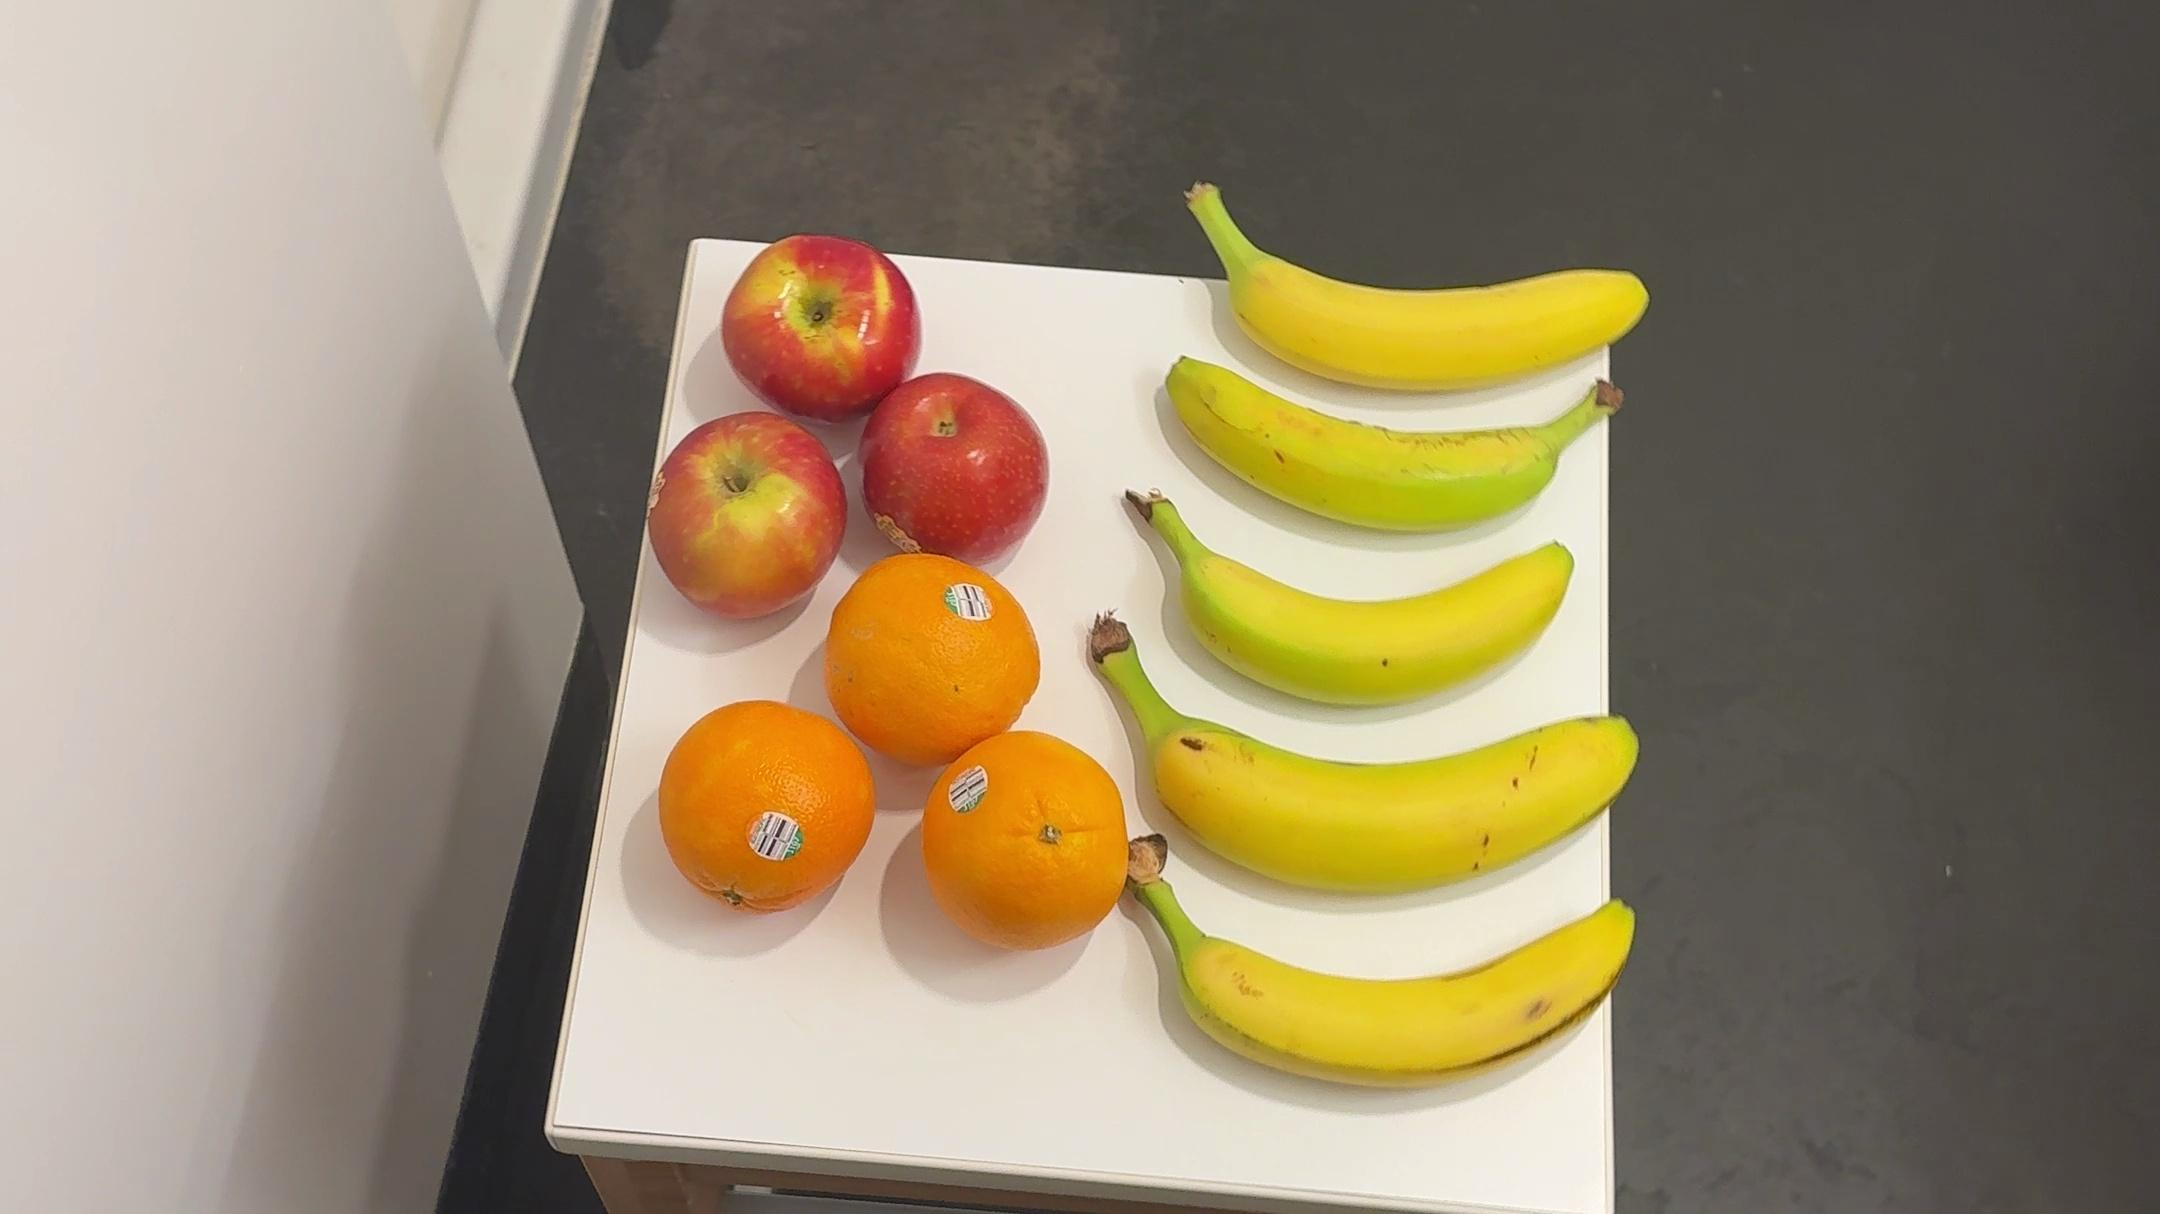apple: (647, 401, 866, 629), (720, 220, 929, 427), (865, 362, 1055, 565)
banana: (1079, 600, 1650, 899), (1127, 831, 1648, 1097), (1117, 481, 1571, 726), (1170, 186, 1662, 401), (1139, 343, 1627, 539)
orange: (923, 739, 1138, 959), (663, 693, 863, 928), (831, 555, 1033, 764)
